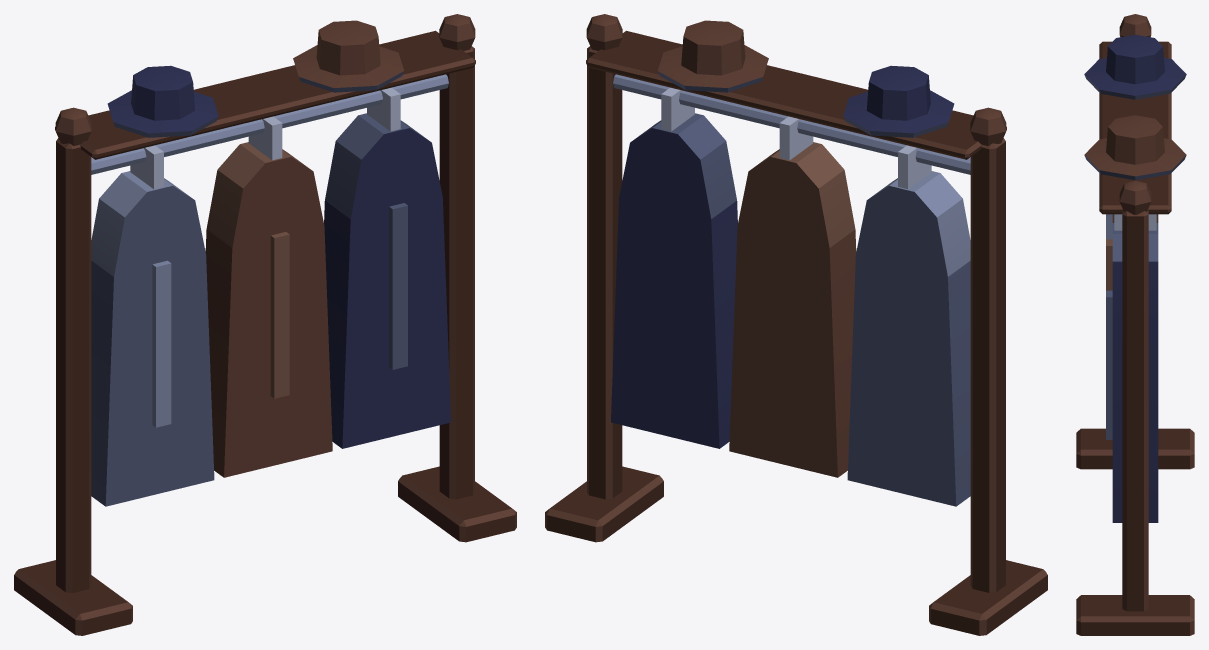
File: Hide_CoatRack.fbx
3 renders of one model, left to right at view 1: azimuth 30°, elevation 25°; view 2: azimuth 150°, elevation 25°; view 3: azimuth 270°, elevation 25°, orthographic. The views are drawn at different scales.
Parts seen in each view (by area): view 1: Hide_CoatRack; view 2: Hide_CoatRack; view 3: Hide_CoatRack.
Part boxes in pixels (<box>): Hide_CoatRack: <box>14,14,516,635</box>; Hide_CoatRack: <box>545,14,1047,635</box>; Hide_CoatRack: <box>1076,14,1194,635</box>.
Size of the model in its own units: 6.9 by 7.6 by 1.8.
1 material, 1 textured.
